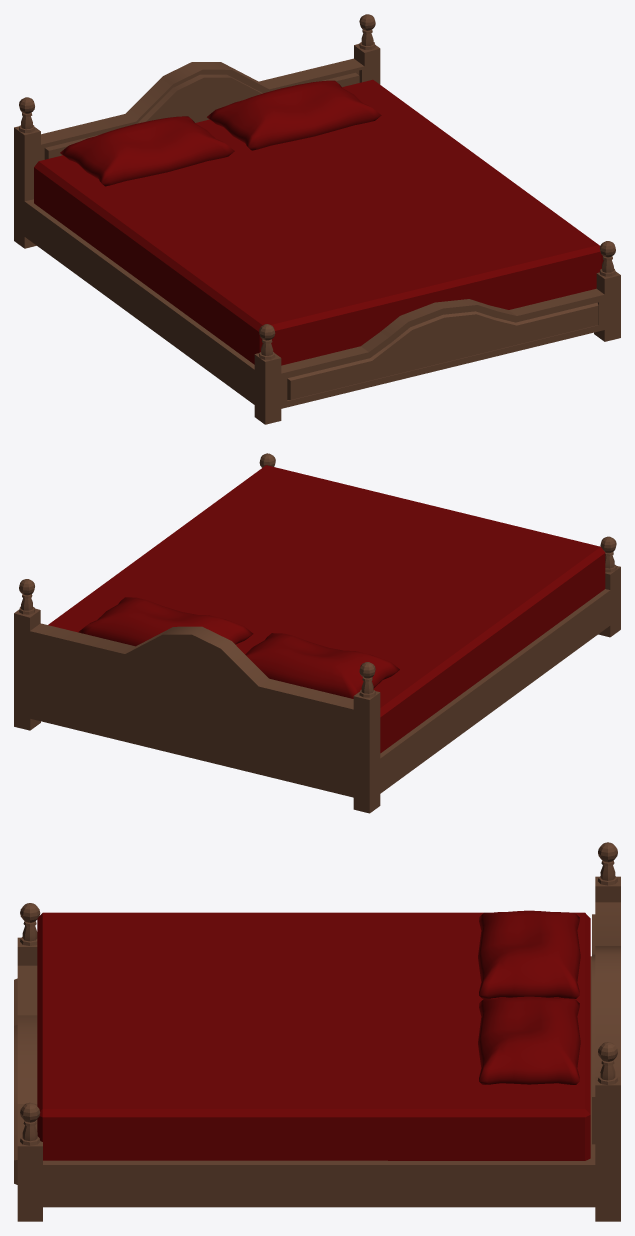
3 views of the same model, one above another, from view 1: azimuth 30°, elevation 25°; view 2: azimuth 150°, elevation 25°; view 3: azimuth 270°, elevation 25° (orthographic). The views are drawn at different scales.
Visible parts, largest first — view 1: low_poly_king_size_bed; view 2: low_poly_king_size_bed; view 3: low_poly_king_size_bed.
Boxes of the visible parts, bbox=[...] form: low_poly_king_size_bed: bbox=[14, 14, 620, 424]; low_poly_king_size_bed: bbox=[14, 453, 620, 813]; low_poly_king_size_bed: bbox=[14, 842, 620, 1221].
Bounding box in the file's own units: 0.0892 × 0.0347 × 0.1097.
